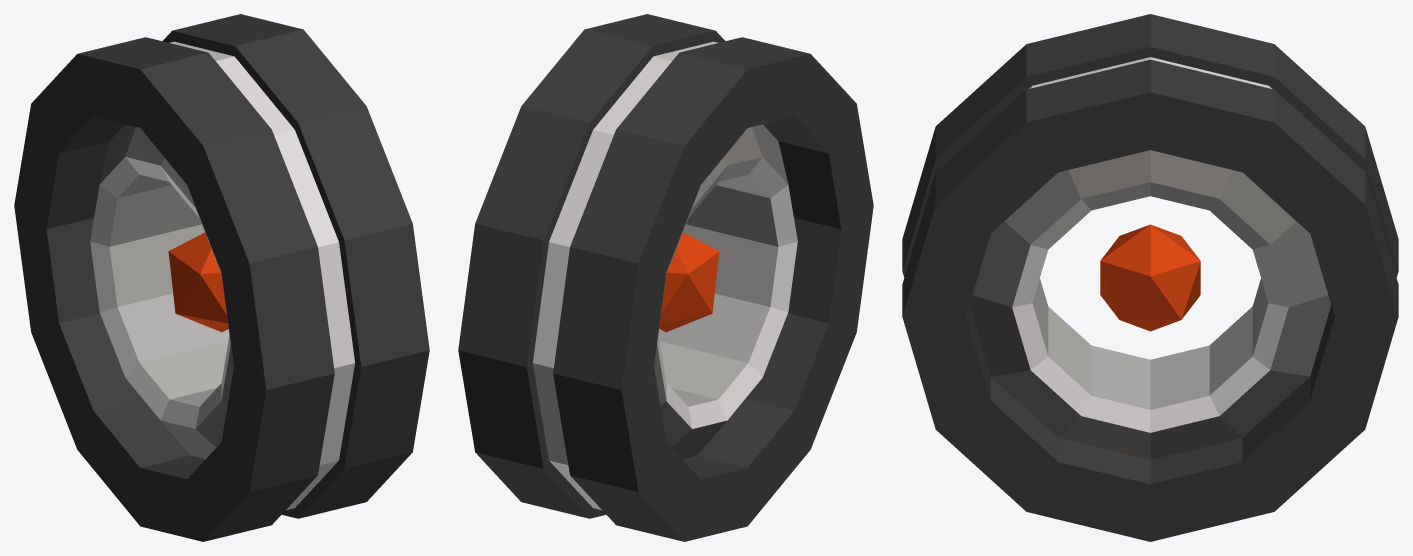
File: TireHeal.fbx
3 views of the same model, side by side, from view 1: azimuth 30°, elevation 25°; view 2: azimuth 150°, elevation 25°; view 3: azimuth 270°, elevation 25° (orthographic).
Parts seen in each view (by area): view 1: Cylinder, Icosphere; view 2: Cylinder, Icosphere; view 3: Cylinder, Icosphere.
Boxes of the visible parts, x1,y1,x2,y2 form: Cylinder: (14, 14, 429, 541); Icosphere: (168, 232, 228, 332); Cylinder: (458, 14, 873, 541); Icosphere: (659, 232, 719, 332); Cylinder: (902, 14, 1398, 541); Icosphere: (1100, 224, 1200, 331).
Size of the model in its own units: 74.8 by 200 by 200.
